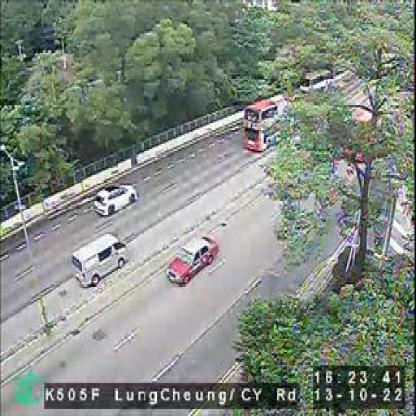Bus: (243, 93, 281, 150)
Car: (72, 234, 129, 287), (166, 234, 220, 287), (94, 180, 138, 216)
